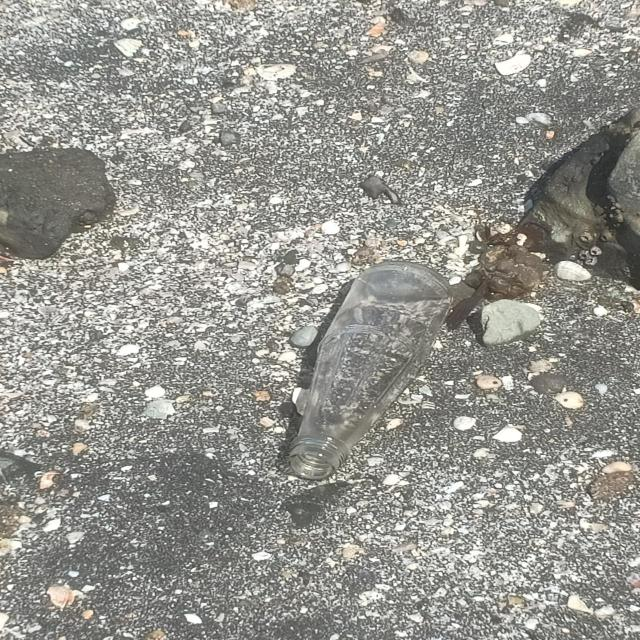glass_waste: (286, 260, 460, 486)
